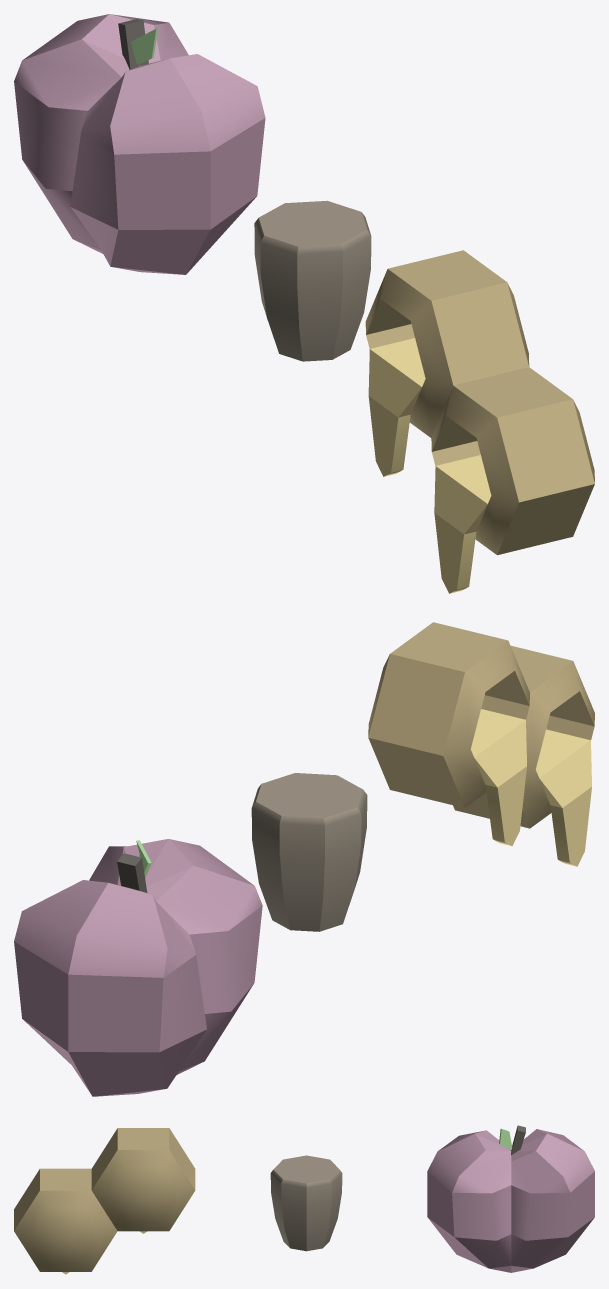
Rendered from Quest_items.fbx.
3 views of the same model, one above another, from view 1: azimuth 30°, elevation 25°; view 2: azimuth 150°, elevation 25°; view 3: azimuth 270°, elevation 25° (orthographic). The views are drawn at different scales.
Parts seen in each view (by area): view 1: Peach, Honey, Coark; view 2: Peach, Honey, Coark; view 3: Peach, Honey, Coark.
Part boxes in pixels (x1,y1,x2,y2): Peach: (14,14,265,274); Honey: (365,250,594,593); Coark: (254,200,371,361); Peach: (14,839,262,1096); Honey: (368,622,594,866); Coark: (251,773,367,931); Peach: (427,1125,594,1272); Honey: (14,1128,195,1274); Coark: (270,1155,342,1251).
Bounding box in the file's own units: 2.15 × 3.5 × 11.21.
